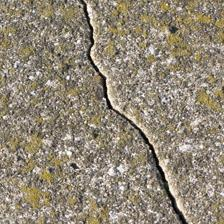Crack: (79, 4, 186, 221)
